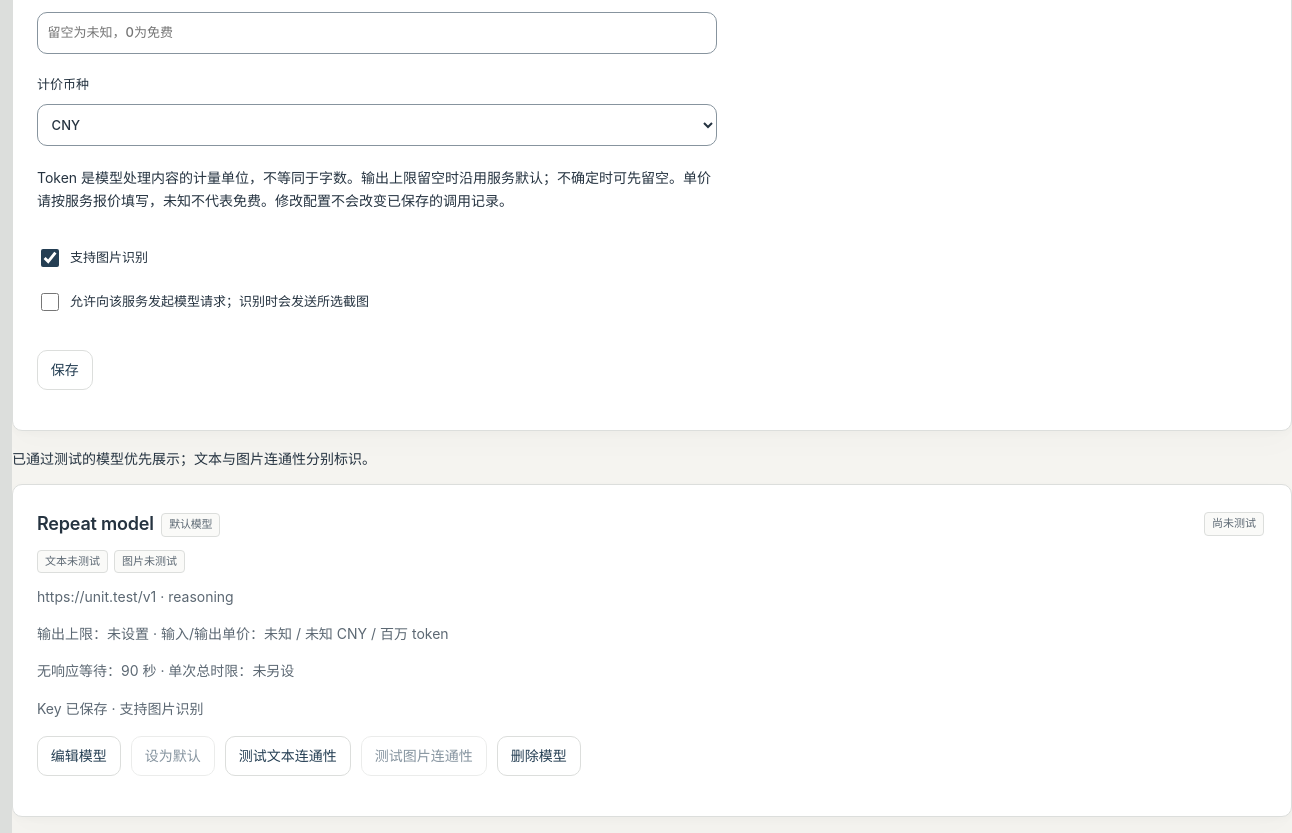
it: removes stale success when a retest request fails
(page scrolled)
Click the button "测试文本连通性" at (288, 756), box [225,736,351,776]
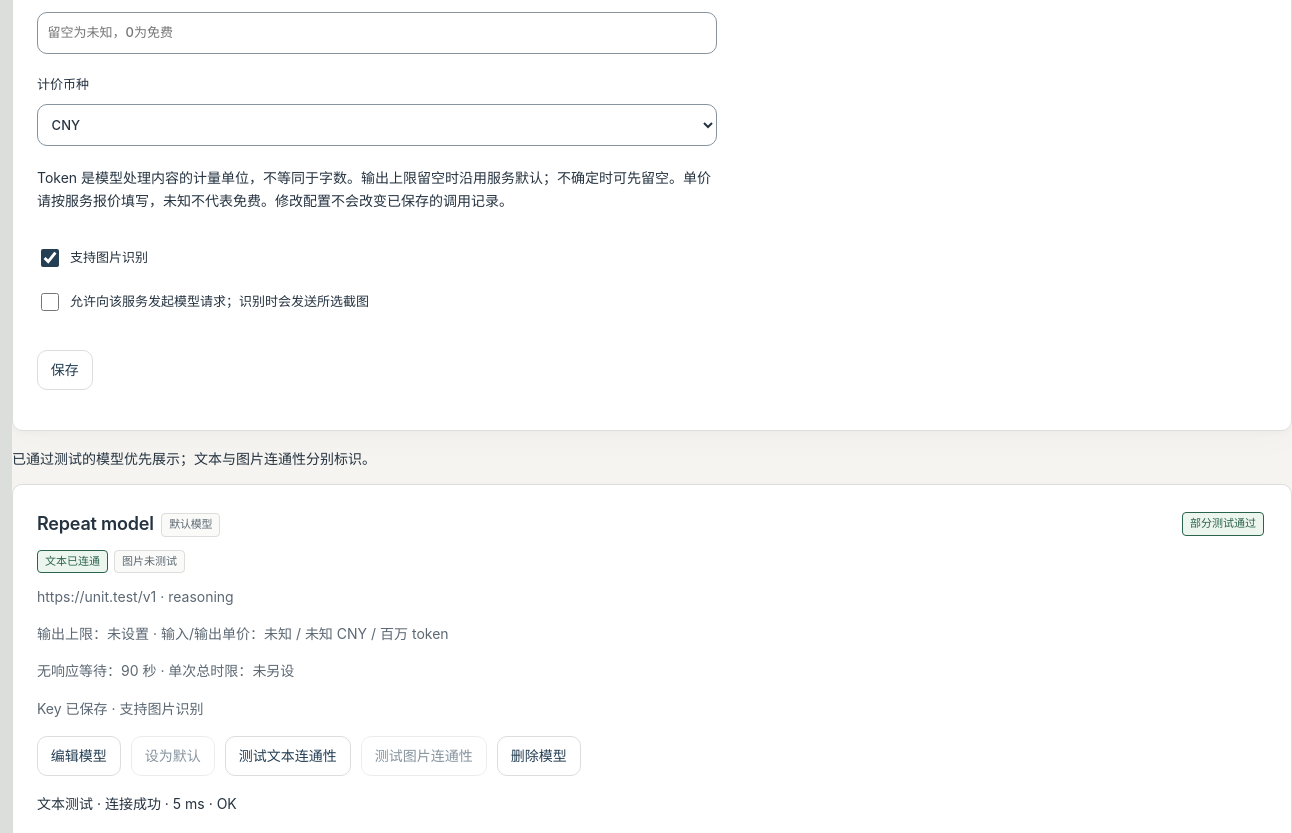
Expected: the text "文本测试 · 连接成功 · 5 ms · OK" is shown, [37,795,237,812]
Click the button "测试文本连通性" at (288, 756), box [225,736,351,776]
(page scrolled)
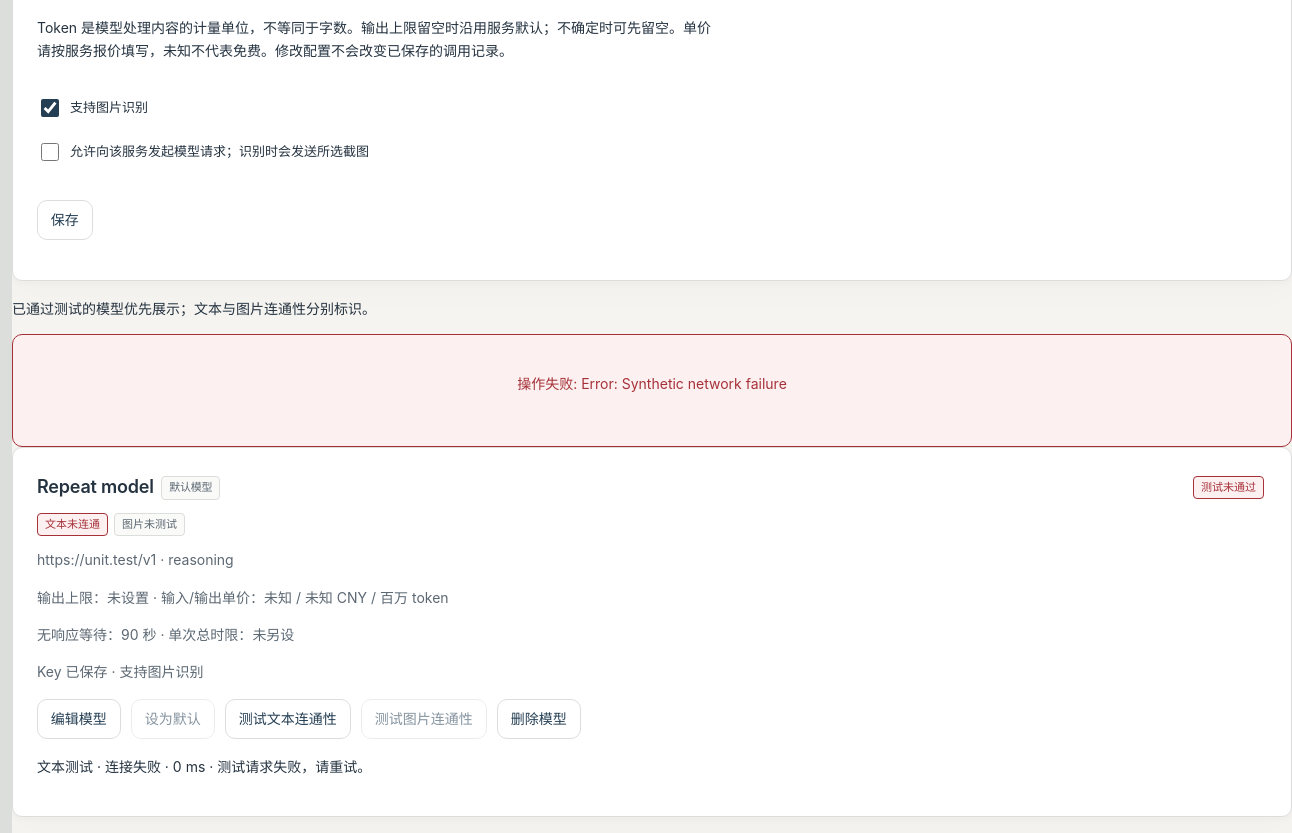
Expected: the button "测试文本连通性" is enabled, [225,699,351,739]
Expected: the text "操作失败: Error: Synthetic network failure" is shown, [517,375,787,392]
Expected: the text "连接成功" is gone
